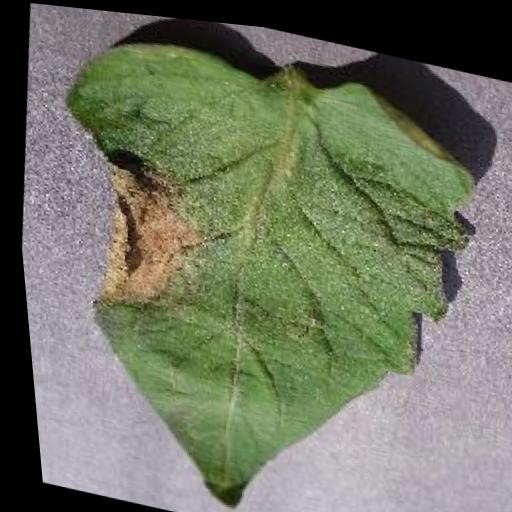Late Blight: (10, 4, 512, 512)
